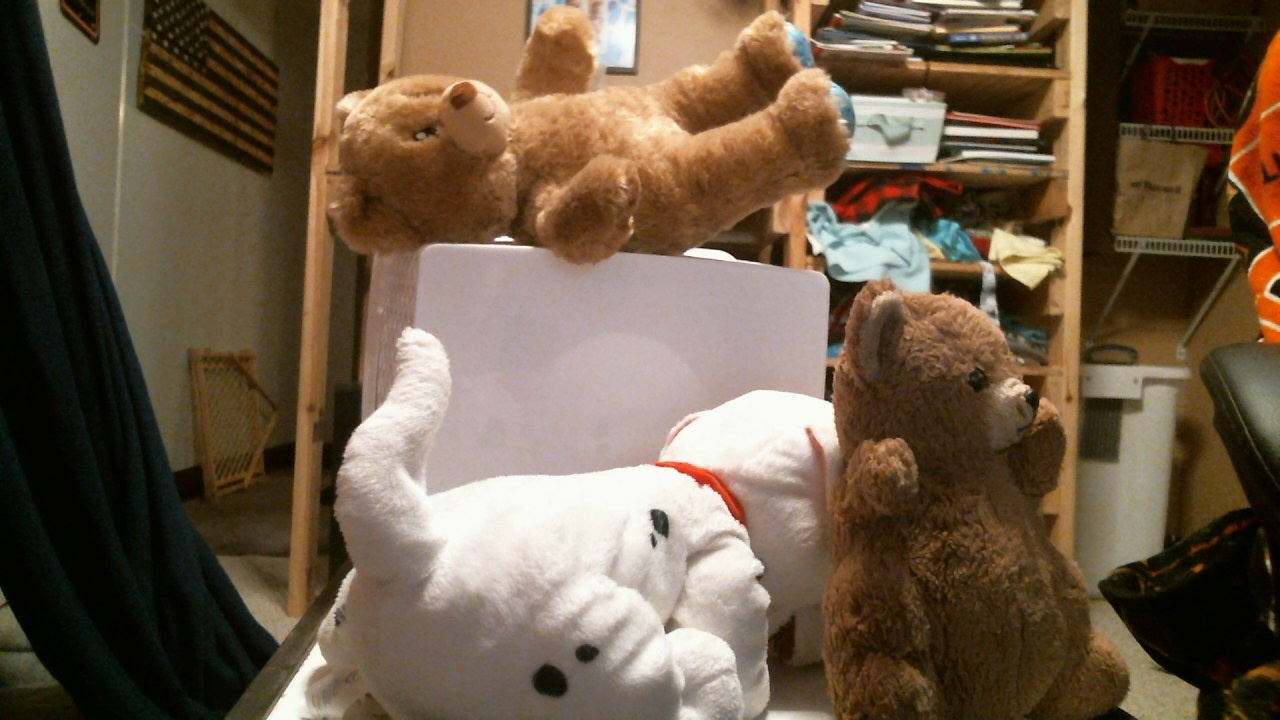Little_Mister_Bear: (940, 360, 1036, 471)
